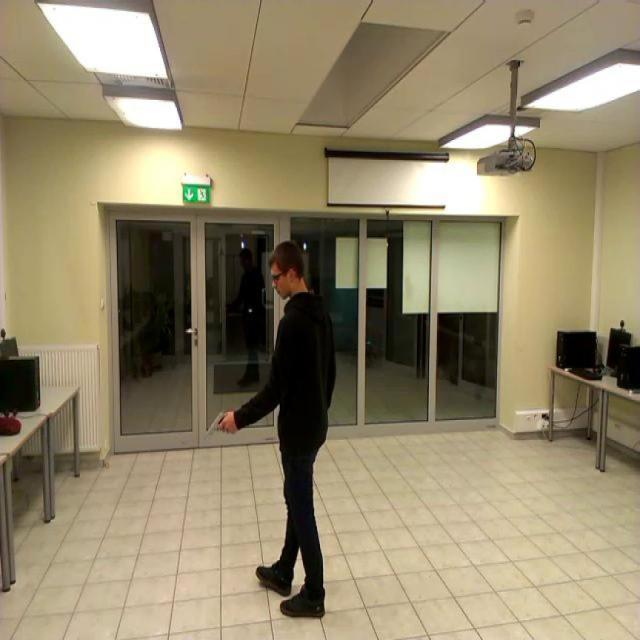pistol: (208, 410, 232, 434)
